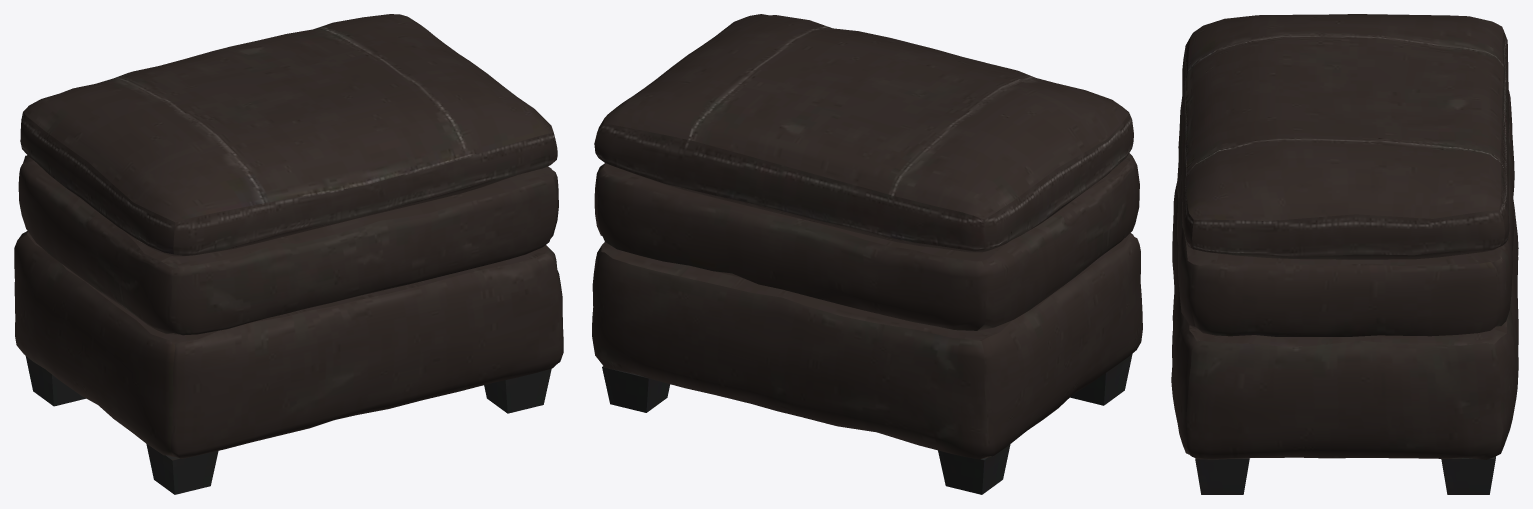
File: Ottoman_01.glb
3 renders of one model, left to right at view 1: azimuth 30°, elevation 25°; view 2: azimuth 150°, elevation 25°; view 3: azimuth 270°, elevation 25°, orthographic.
Parts seen in each view (by area): view 1: Ottoman_01; view 2: Ottoman_01; view 3: Ottoman_01.
Boxes of the visible parts, x1,y1,x2,y2 form: Ottoman_01: [14, 14, 563, 494]; Ottoman_01: [592, 14, 1142, 494]; Ottoman_01: [1171, 14, 1518, 494].
Bounding box in the file's own units: 1 × 0.7058 × 0.7022.
Materials: 1 (1 with a texture image).
